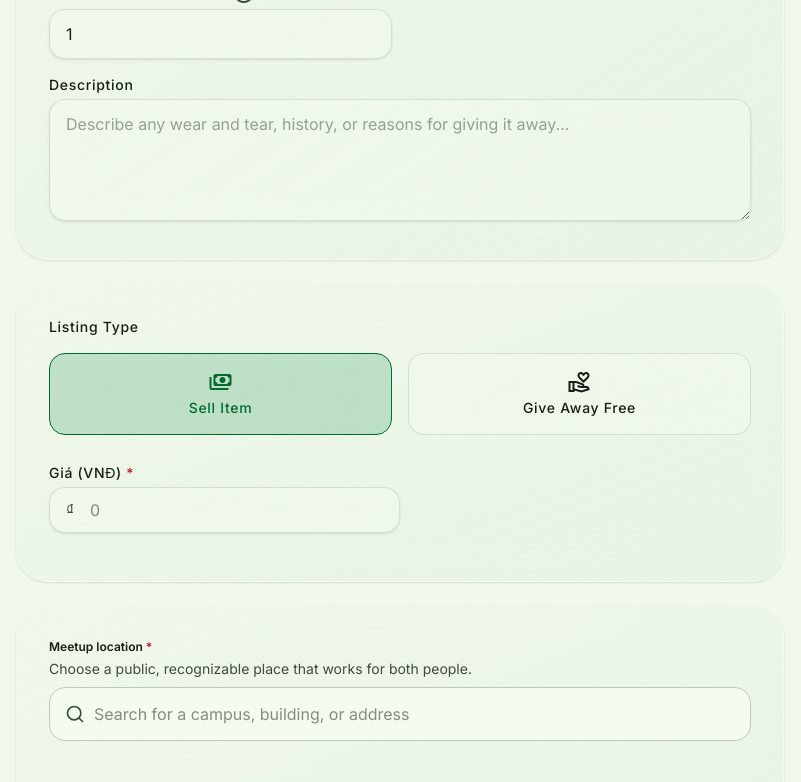
CreateListingPage › toggles price input based on listing type
(page scrolled)
Expected: the radio button showing "sell" is checked, top-left (49, 353), bottom-right (392, 435)
Expected: the field with placeholder "0" is enabled, top-left (50, 488), bottom-right (399, 532)
Note: Switch to free
Click the radio button showing "free": (580, 394) top-left (408, 353), bottom-right (751, 435)
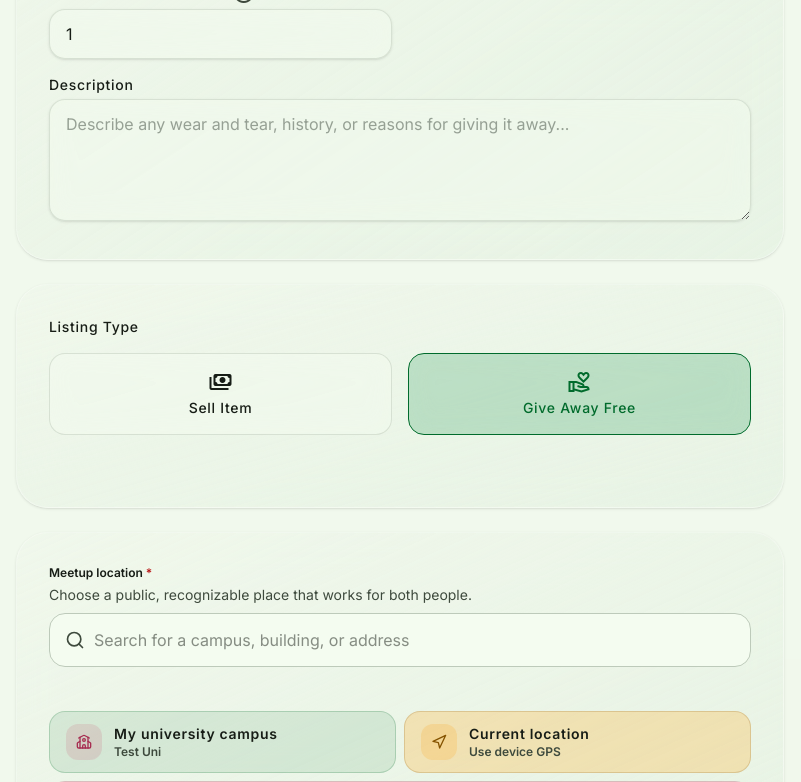
Now the radio button showing "free" is checked, box top-left (408, 353), bottom-right (751, 435)
Note: Switch back to sell
Click the radio button showing "sell": (220, 394) top-left (49, 353), bottom-right (392, 435)
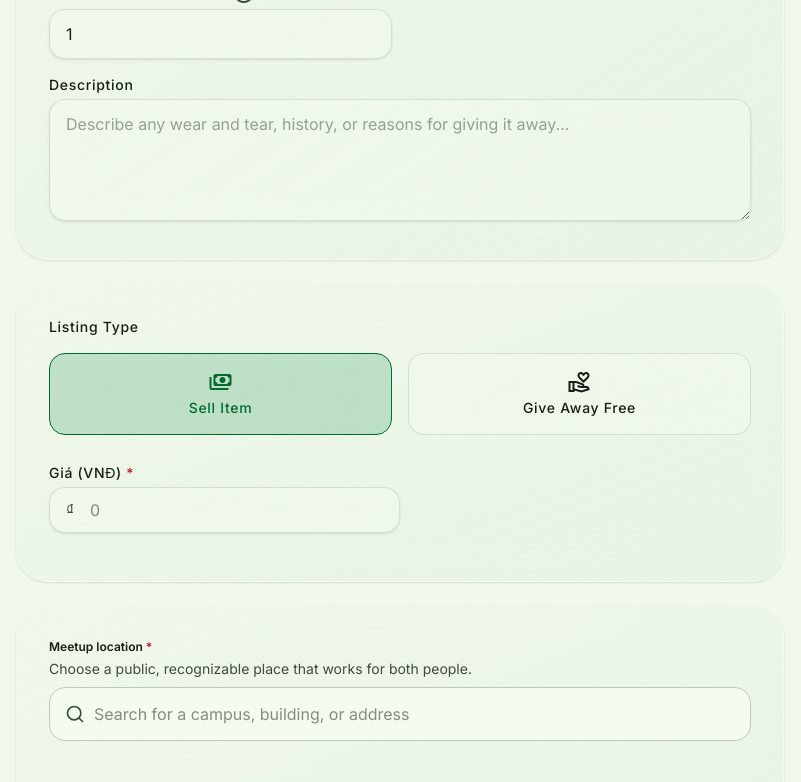
Now the field with placeholder "0" is enabled, box top-left (50, 488), bottom-right (399, 532)
